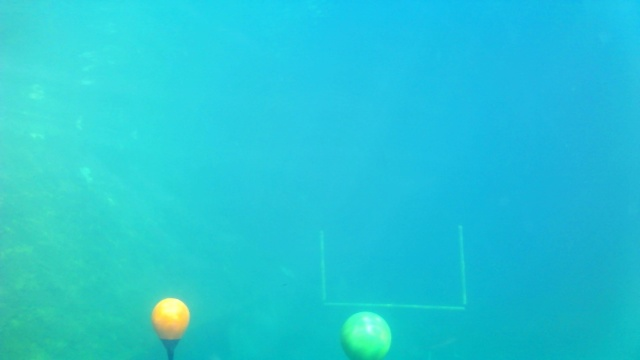buoy_red: (149, 296, 190, 348)
channel: (317, 217, 468, 311)
